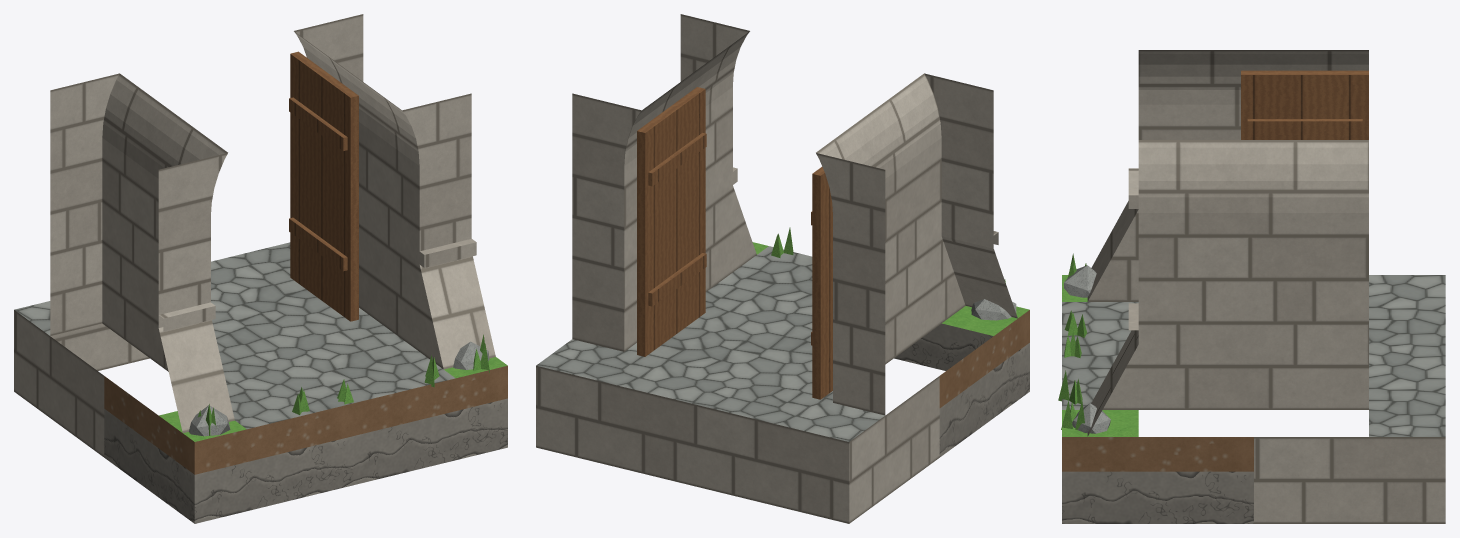
The model's file is Gate.fbx.
The picture shows the model from 3 angles, left to right: view 1: azimuth 30°, elevation 25°; view 2: azimuth 150°, elevation 25°; view 3: azimuth 270°, elevation 25°; orthographic projection. The views are drawn at different scales.
Visible parts, largest first — view 1: Gate; view 2: Gate; view 3: Gate.
Part boxes in pixels (x1,y1,x2,y2): Gate: [14, 14, 507, 523]; Gate: [536, 14, 1029, 523]; Gate: [1058, 50, 1445, 523].
Bounding box in the file's own units: 3 × 3 × 3.03.
7 materials, 7 textured.
